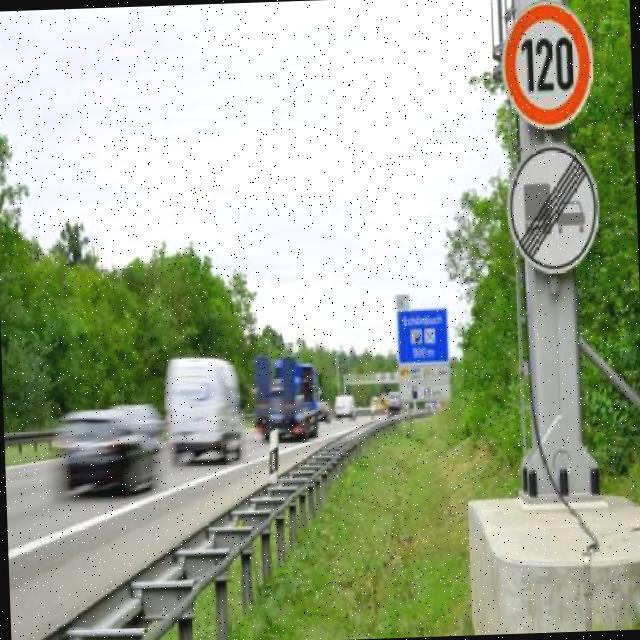Ograniczenie predkosci do 120: (496, 4, 598, 134)
